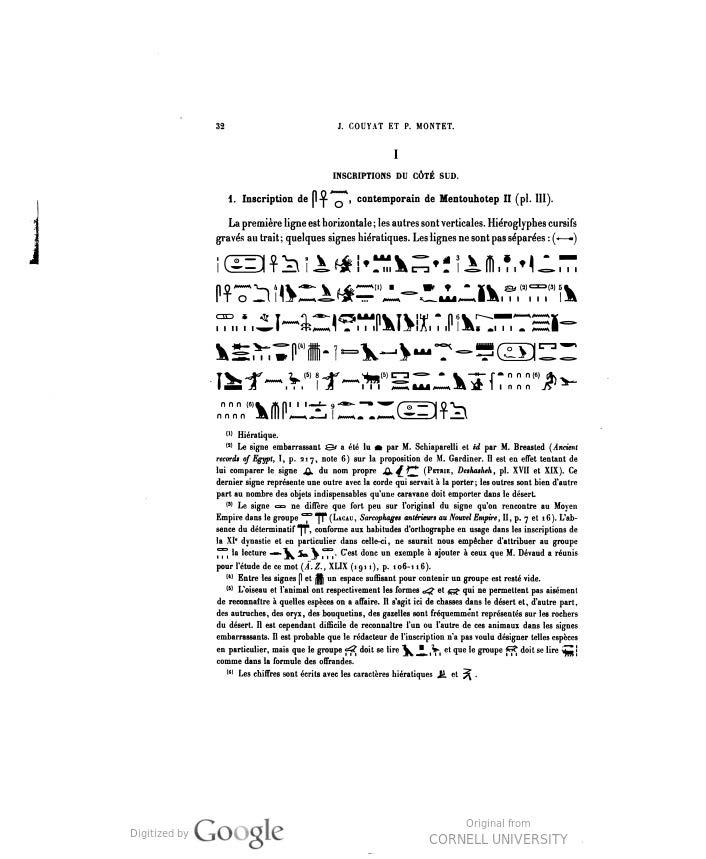circle: (220, 246, 271, 275), (495, 337, 541, 367), (396, 395, 438, 423)
